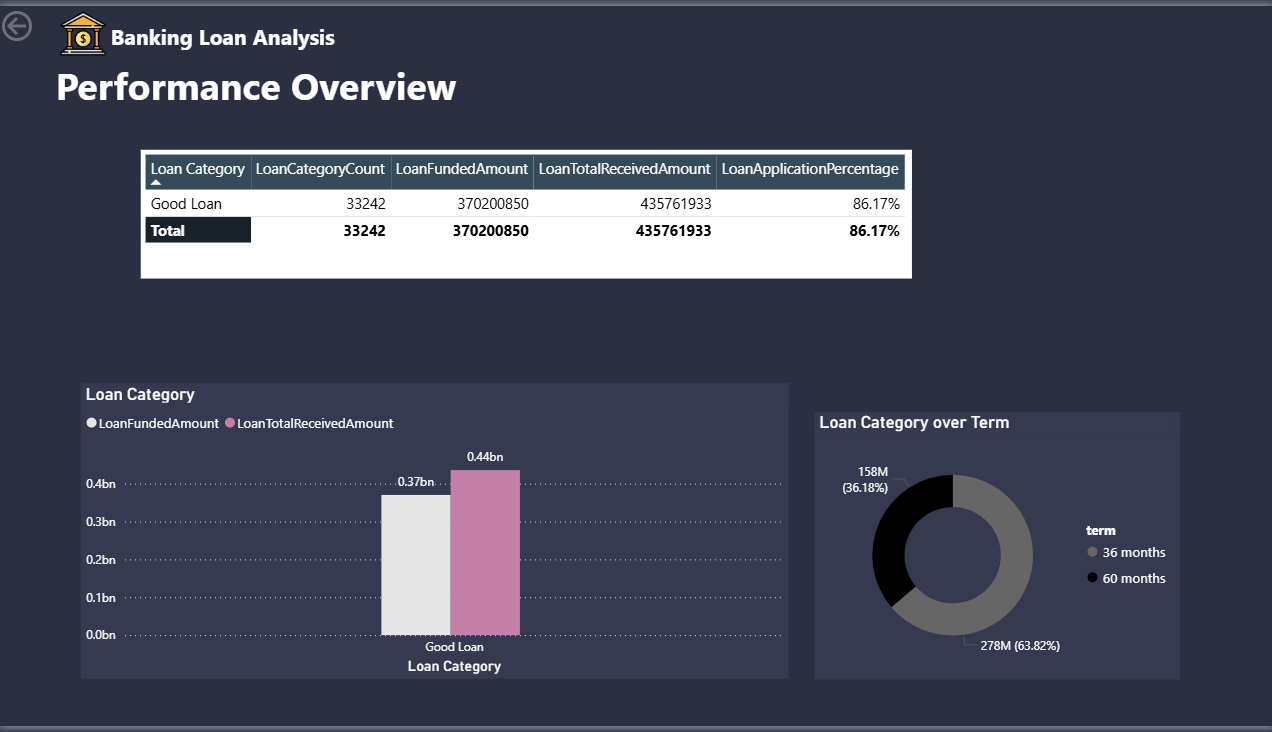

Layout of this report page (visuals, bound fields, positions):
{"tool":"powerbi","page":{"name":"Loan Category","canvas":[1280,720],"ordinal":2},"visuals":[{"type":"textbox","box":[108.6,11.4,280,51.4],"z":0},{"type":"textbox","box":[54.3,48.6,435.7,61.4],"z":1000},{"type":"image","box":[54.3,0,64.3,55.7],"z":2000},{"type":"pivotTable","fields":{"Rows":["financial_loan_data.Loan Category"],"Values":["financial_loan_data.LoanCategoryCount","financial_loan_data.LoanFundedAmount","financial_loan_data.LoanTotalReceivedAmount","financial_loan_data.LoanApplicationPercentage"]},"box":[144.3,144.3,771.4,128.6],"z":3000},{"type":"clusteredColumnChart","title":"Loan Category","fields":{"Category":["financial_loan_data.Loan Category"],"Y":["financial_loan_data.LoanFundedAmount","financial_loan_data.LoanTotalReceivedAmount"]},"box":[83.4,377.4,708.1,295.4],"z":4000},{"type":"donutChart","title":"Loan Category over Term","fields":{"Y":["Sum(financial_loan_data.total_payment)"],"Category":["financial_loan_data.term"]},"box":[817.1,405.7,365.7,267.1],"z":5000},{"type":"actionButton","box":[0,0,100,40],"z":6000}]}

Visuals, with their boxes in screenshot pixels (x1, y1, x2, y2), scaled from the page's 1280x720 canvas onto the 1272x732 screenshot:
textbox: detection(108, 12, 386, 64)
textbox: detection(54, 49, 487, 112)
image: detection(54, 0, 118, 57)
pivotTable - financial_loan_data.Loan Category x financial_loan_data.LoanCategoryCount: detection(143, 147, 910, 277)
"Loan Category" clusteredColumnChart: detection(83, 384, 787, 684)
"Loan Category over Term" donutChart: detection(812, 412, 1175, 684)
actionButton: detection(0, 0, 99, 41)
